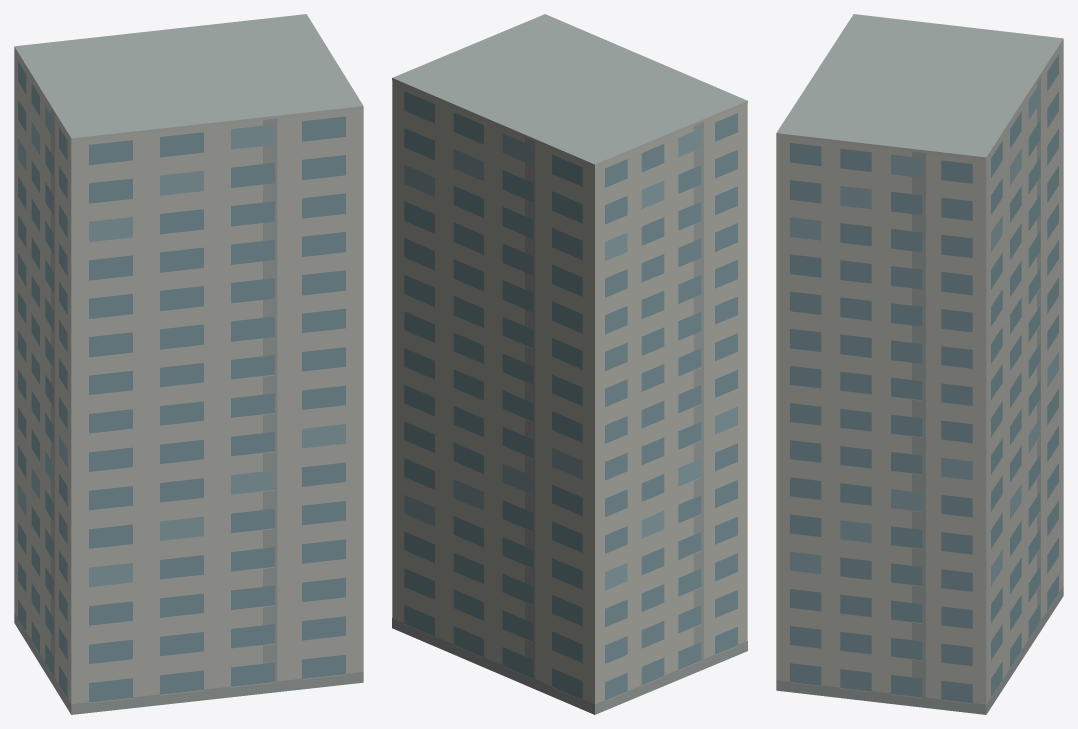
The model's file is residential-398fc5a1-0bc5-4d0a-9e00-0ae74dbafa9b.glb.
3 views of the same model, side by side, from view 1: azimuth 30°, elevation 25°; view 2: azimuth 150°, elevation 25°; view 3: azimuth 270°, elevation 25° (orthographic). The views are drawn at different scales.
Parts seen in each view (by area): view 1: residential-398fc5a1-0bc5-4d0a-9e00-0ae74dbafa9b.tmp; view 2: residential-398fc5a1-0bc5-4d0a-9e00-0ae74dbafa9b.tmp; view 3: residential-398fc5a1-0bc5-4d0a-9e00-0ae74dbafa9b.tmp.
Part boxes in pixels (left/top/right/bottom): residential-398fc5a1-0bc5-4d0a-9e00-0ae74dbafa9b.tmp: left=14, top=14, right=363, bottom=714; residential-398fc5a1-0bc5-4d0a-9e00-0ae74dbafa9b.tmp: left=392, top=14, right=747, bottom=714; residential-398fc5a1-0bc5-4d0a-9e00-0ae74dbafa9b.tmp: left=776, top=14, right=1063, bottom=714.
Size of the model in its own units: 28.14 by 51 by 23.83.
